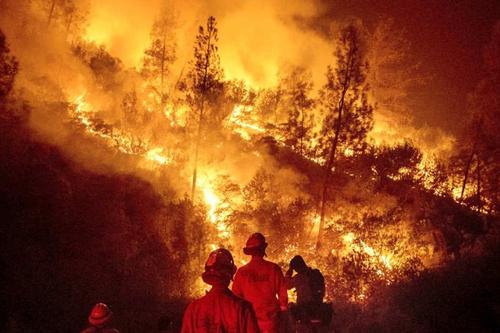fire: (152, 135, 273, 224)
